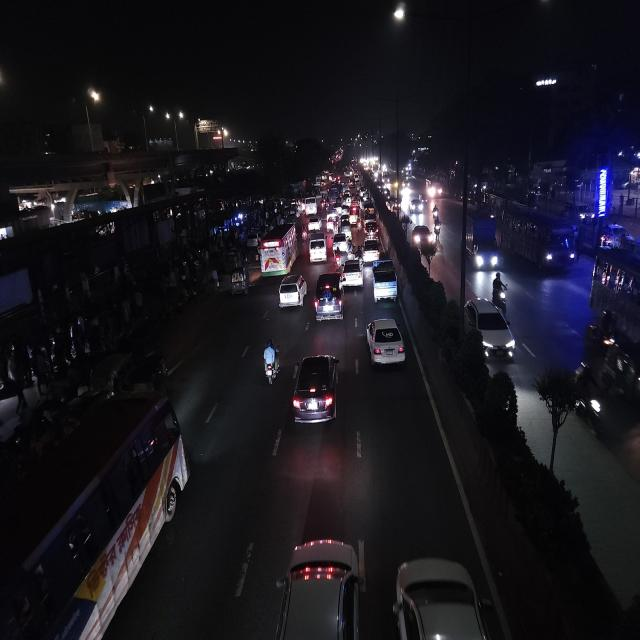bus: (0, 394, 185, 640), (587, 246, 640, 410), (497, 203, 579, 274), (256, 222, 298, 278), (302, 196, 318, 215)
car: (268, 530, 372, 640), (388, 550, 488, 640), (288, 348, 342, 436), (463, 298, 517, 365), (364, 314, 408, 378), (312, 269, 347, 327), (276, 270, 308, 315), (370, 256, 400, 304), (412, 222, 438, 257), (308, 229, 328, 266), (342, 258, 364, 290), (361, 241, 381, 264), (362, 218, 380, 242), (332, 231, 348, 252), (409, 195, 425, 216), (308, 214, 323, 232), (326, 213, 338, 233)
cng: (228, 263, 252, 300)
motorcycle: (568, 362, 606, 437), (260, 337, 280, 387), (490, 270, 510, 311), (432, 206, 441, 236), (334, 247, 344, 270), (431, 204, 441, 222)
truck: (462, 208, 501, 274)
